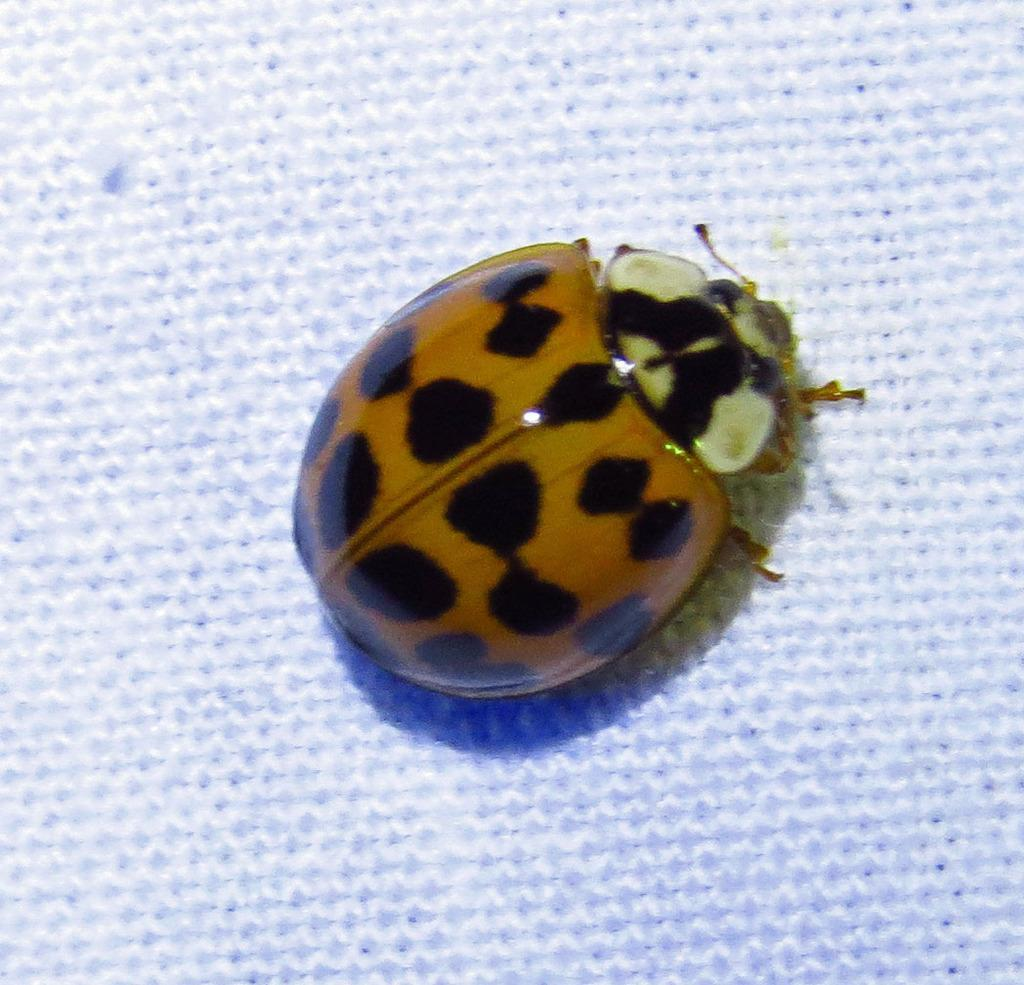ladybug: (294, 221, 869, 706)
